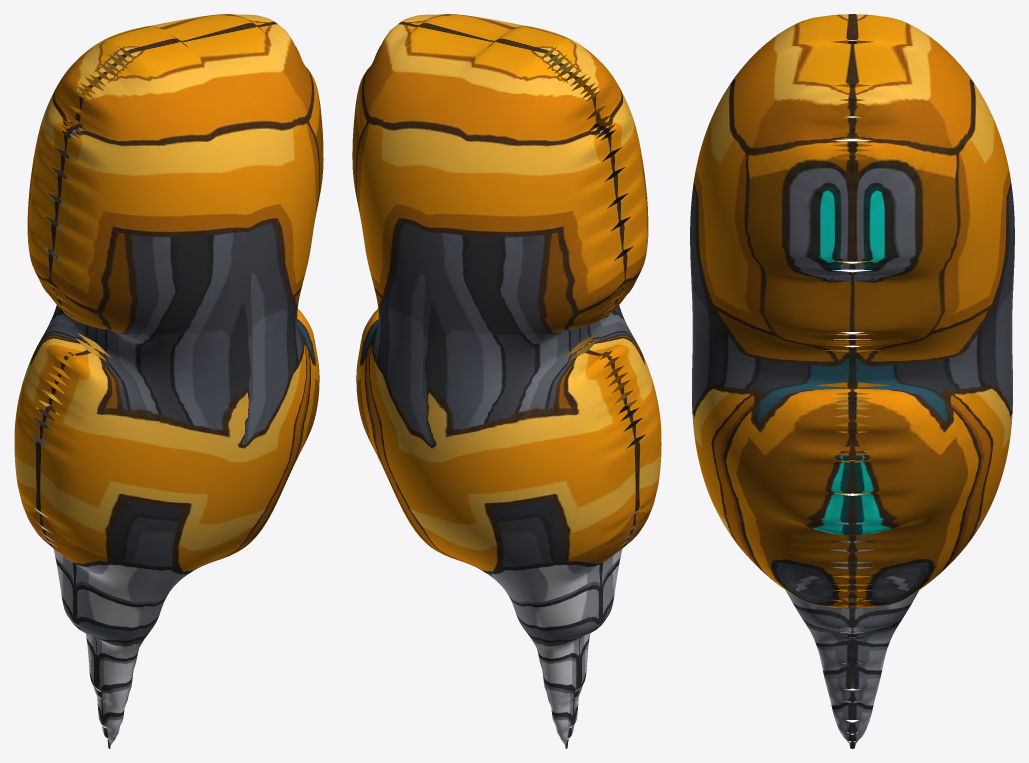
File: drill_arm.glb
3 renders of one model, left to right at view 1: azimuth 30°, elevation 25°; view 2: azimuth 150°, elevation 25°; view 3: azimuth 270°, elevation 25°, orthographic. The views are drawn at different scales.
Parts seen in each view (by area): view 1: drill_arm; view 2: drill_arm; view 3: drill_arm.
Boxes of the visible parts, left/top/right/bottom form: drill_arm: left=14, top=14, right=323, bottom=748; drill_arm: left=352, top=14, right=661, bottom=748; drill_arm: left=690, top=14, right=1014, bottom=748.
Size of the model in its own units: 0.9724 by 2.46 by 0.973.
1 material, 1 textured.
